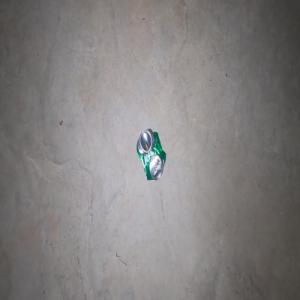SodaCan: (136, 127, 166, 180)
